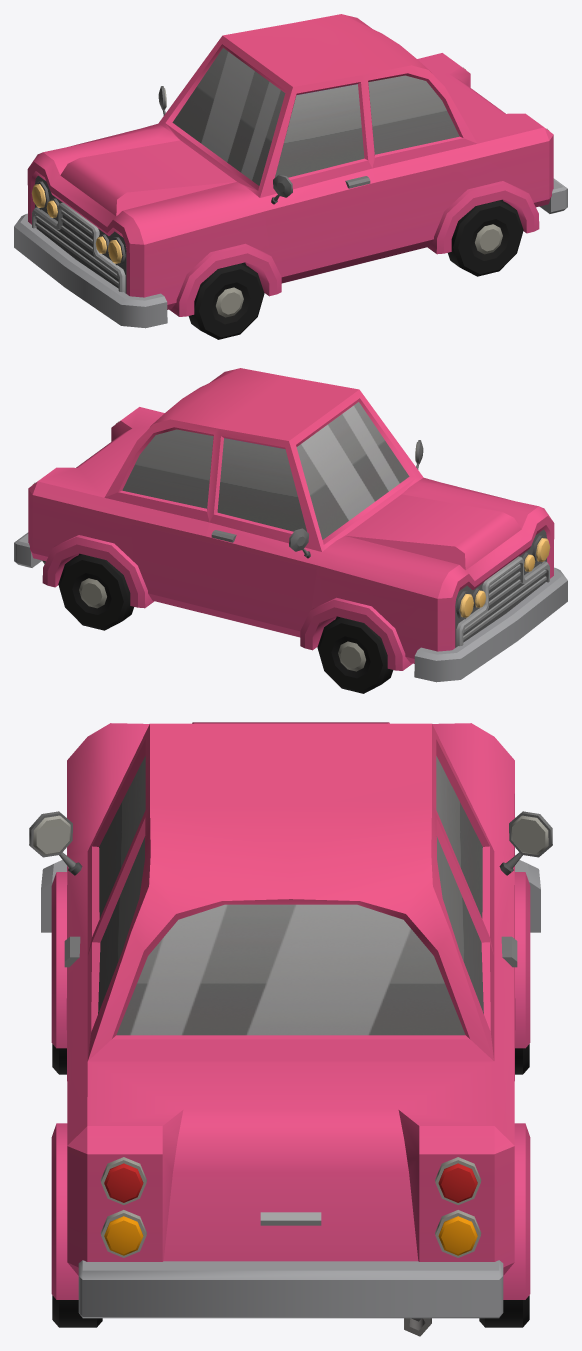
Rendered from Car_7_M.gltf.
3 views of the same model, one above another, from view 1: azimuth 30°, elevation 25°; view 2: azimuth 150°, elevation 25°; view 3: azimuth 270°, elevation 25° (orthographic). The views are drawn at different scales.
Parts seen in each view (by area): view 1: Car_7_M, RL, FL; view 2: Car_7_M, RR, FR; view 3: Car_7_M, RL, RR.
Part boxes in pixels (x1,y1,x2,y2): Car_7_M: [14, 14, 567, 328]; RL: [448, 200, 523, 276]; FL: [188, 263, 264, 339]; Car_7_M: [14, 368, 567, 682]; RR: [58, 554, 133, 630]; FR: [317, 617, 393, 693]; Car_7_M: [29, 722, 552, 1336]; RL: [52, 1295, 102, 1327]; RR: [479, 1295, 529, 1327].
Size of the model in its own units: 3.38 by 1.52 by 1.7.
Materials: 3 (3 with a texture image).
